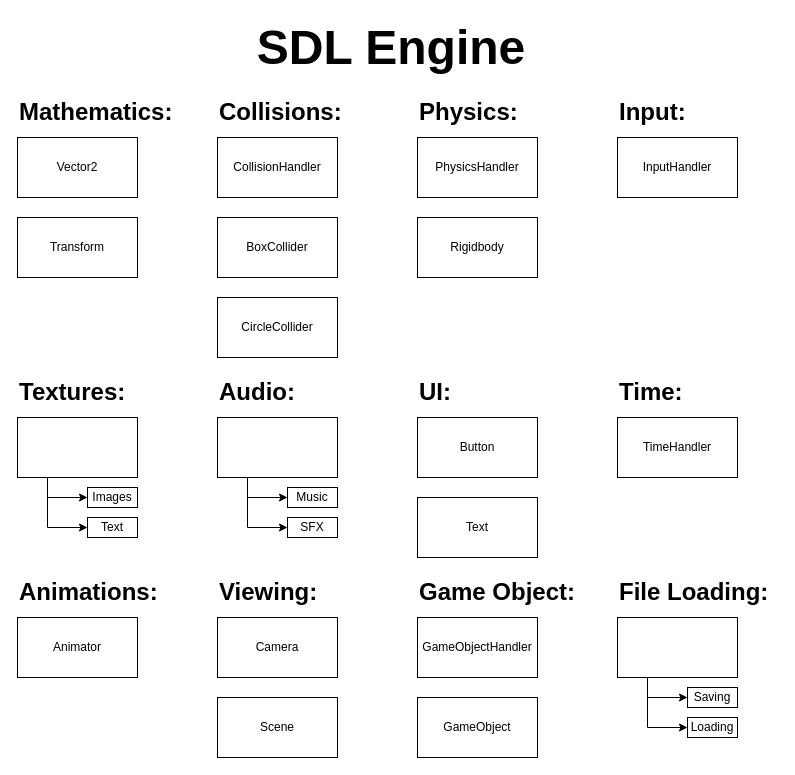
Image size: 795x775. Some labels were removed from this diagram. The shapes that lost their labels are listed below. From the top down, each one's box as (x1, y1, x2, y2) in pixels, then its label:
(16, 416, 138, 478): TextureHandler
(216, 416, 338, 478): AudioHandler
(616, 616, 738, 678): ExternalFileHandler
